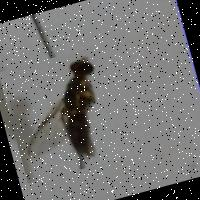Oriental-fruit-fly: (0, 43, 137, 184)
